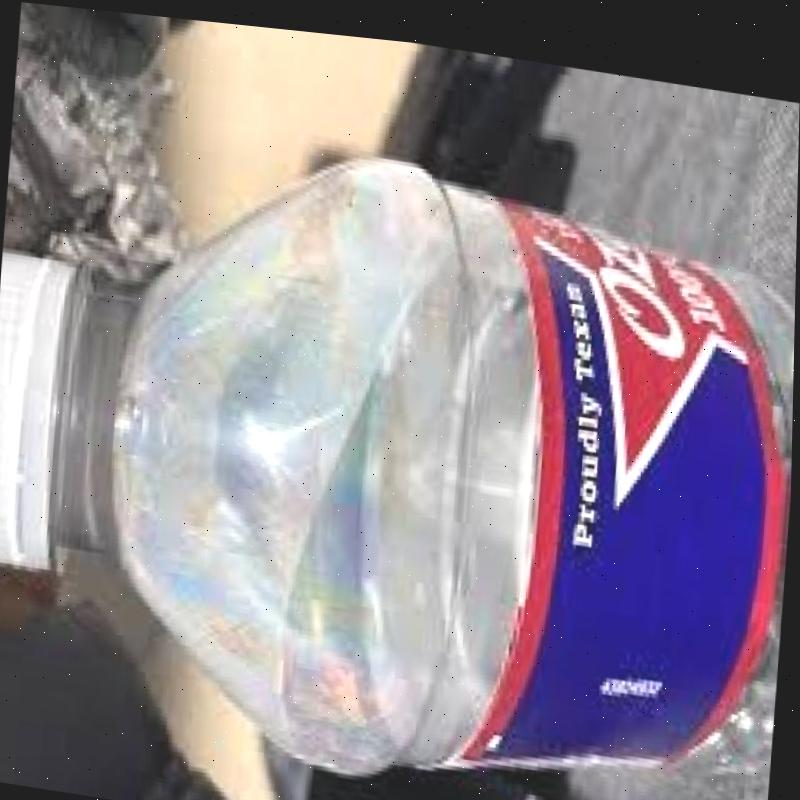botella: (0, 93, 798, 800)
